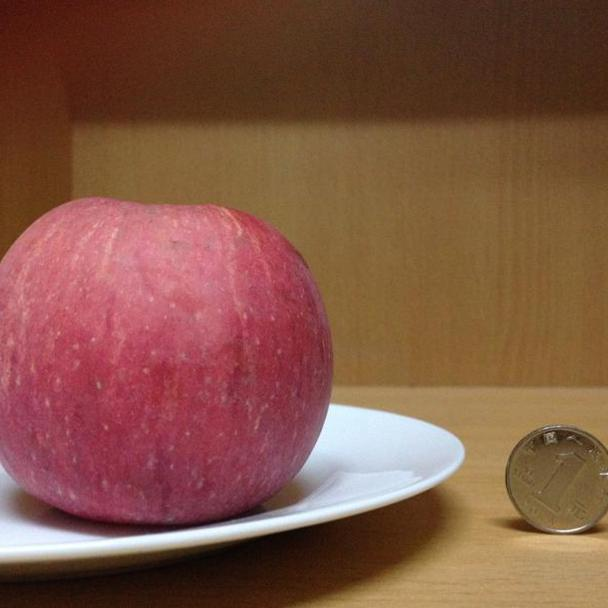apple: (1, 198, 333, 527)
